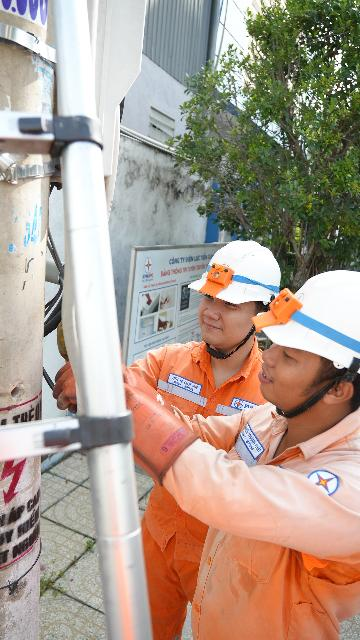gloves: (54, 359, 204, 473), (67, 352, 181, 403)
helmet: (267, 269, 360, 364), (182, 233, 285, 317)
